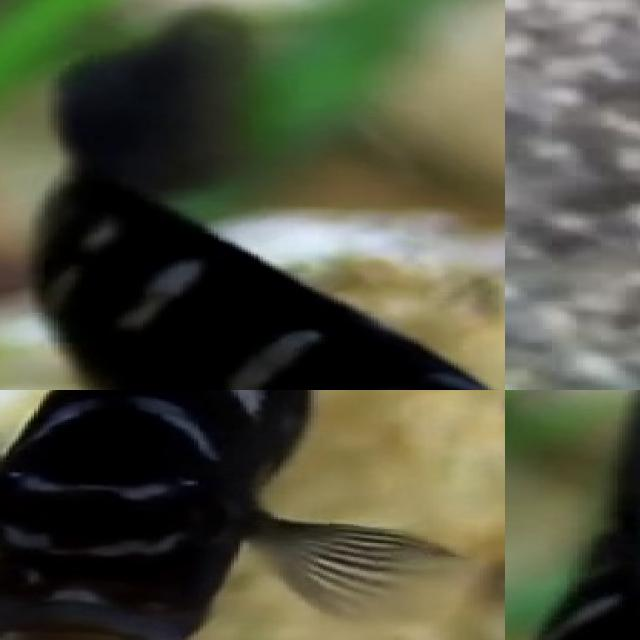fish: (0, 0, 505, 390)
